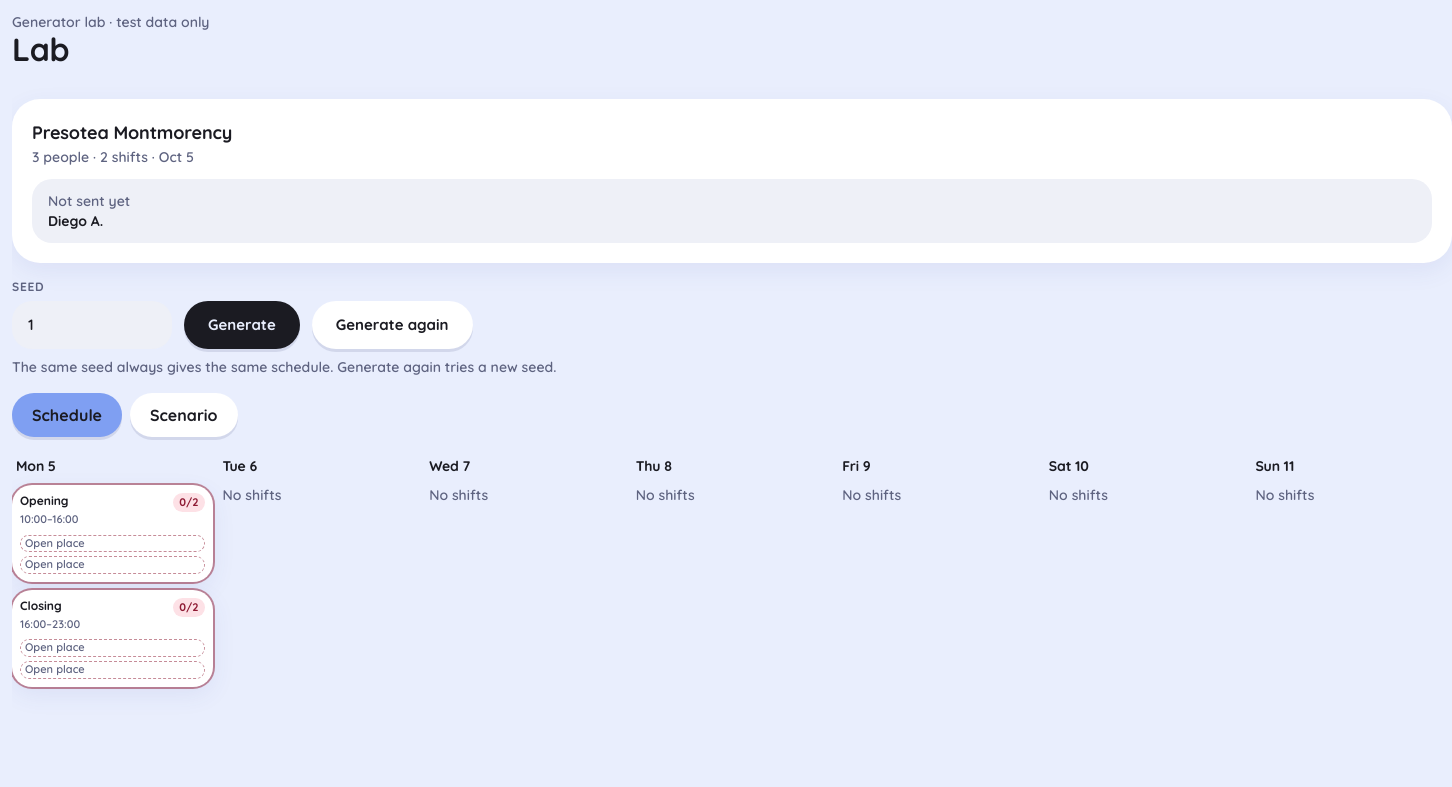
Scenario: LabPage › generates with the seed in the field, and Generate again picks a new one (FR-122)
Replace the text in the number field labelled "Seed" with "42" at coordinates (92, 325), box 12,301 -> 172,349
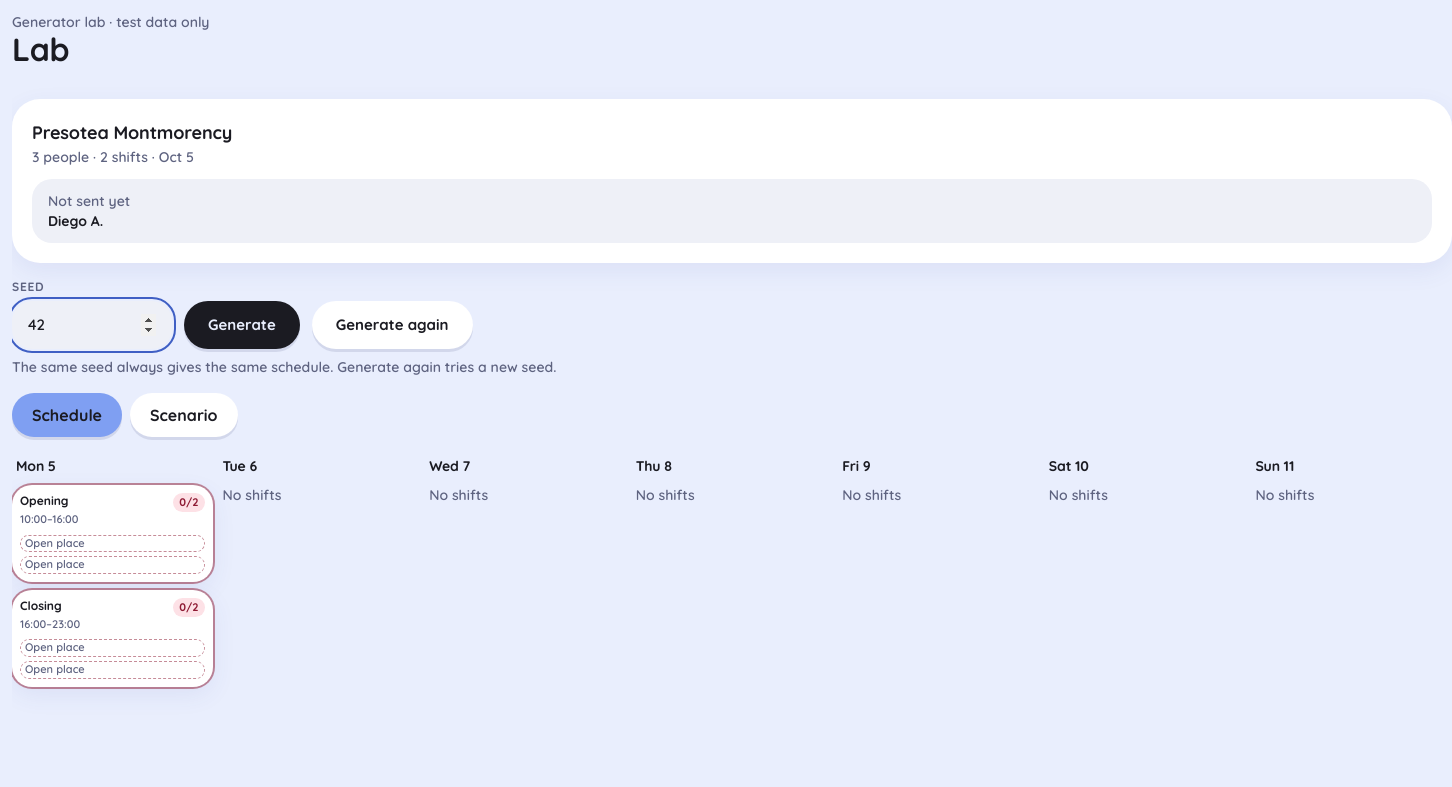
Click the button "Generate" at coordinates (242, 325), box 184,301 -> 300,349
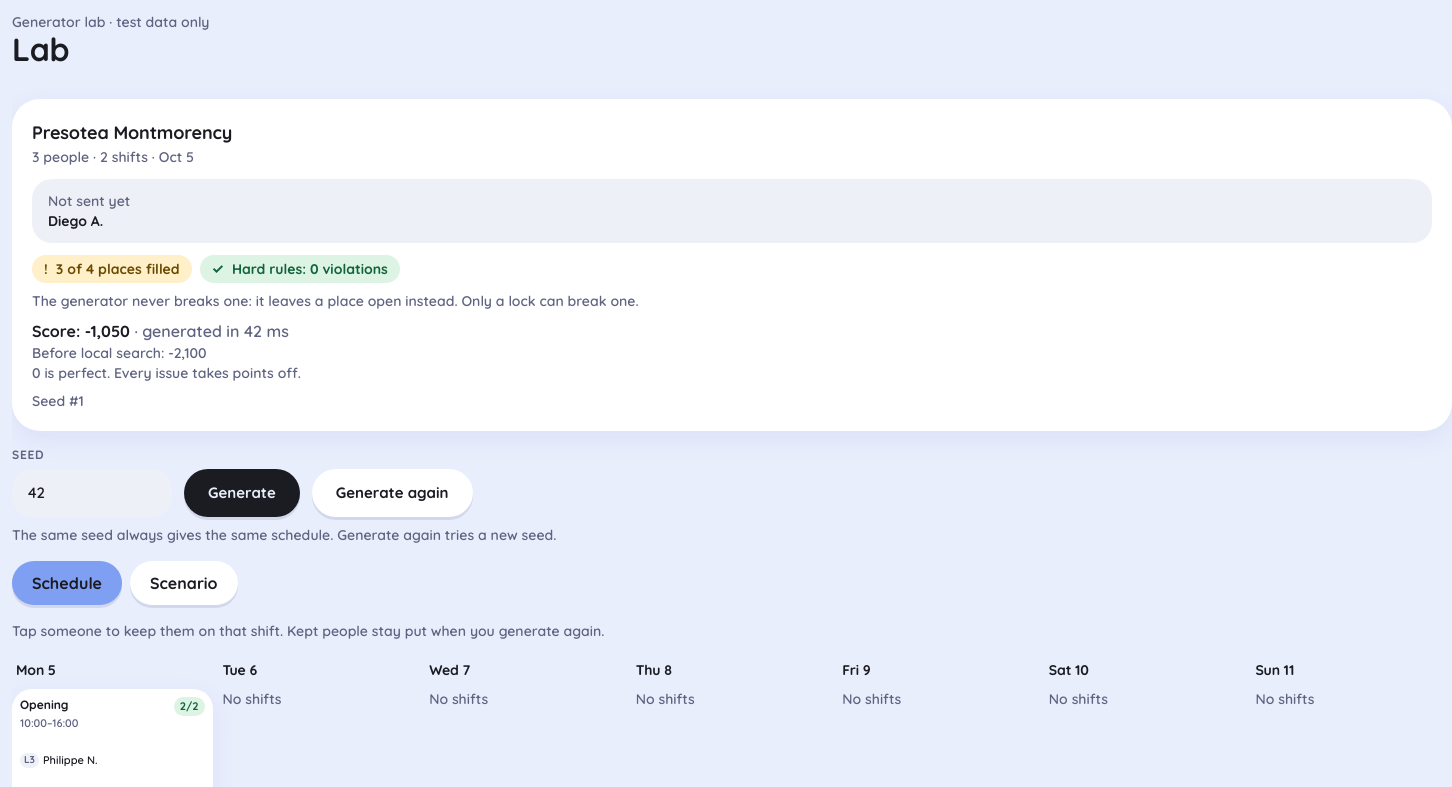
Click the button "Generate again" at coordinates (392, 493), box 312,469 -> 473,517
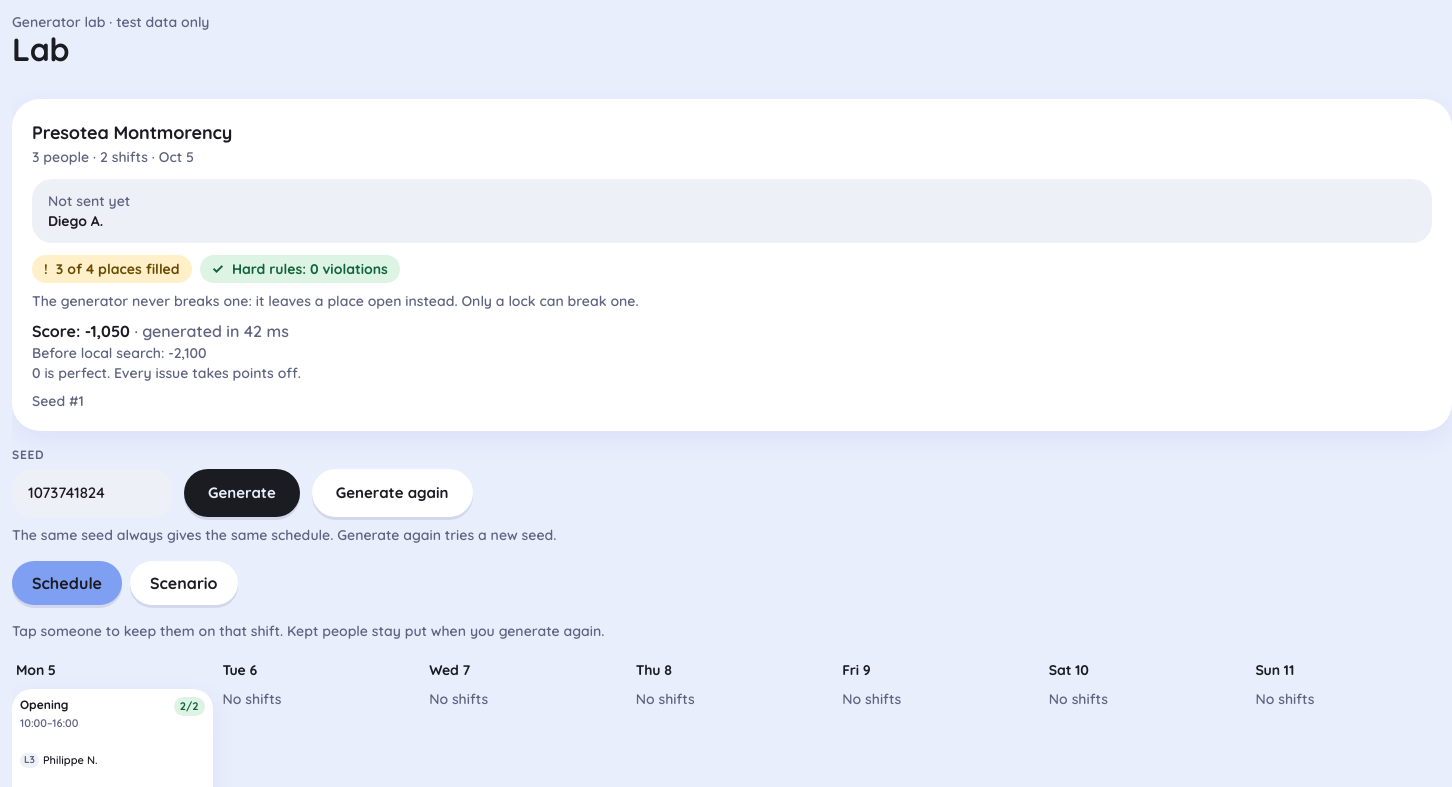
Check: the number field labelled "Seed" holds "1073741824", box 12,469 -> 172,517
